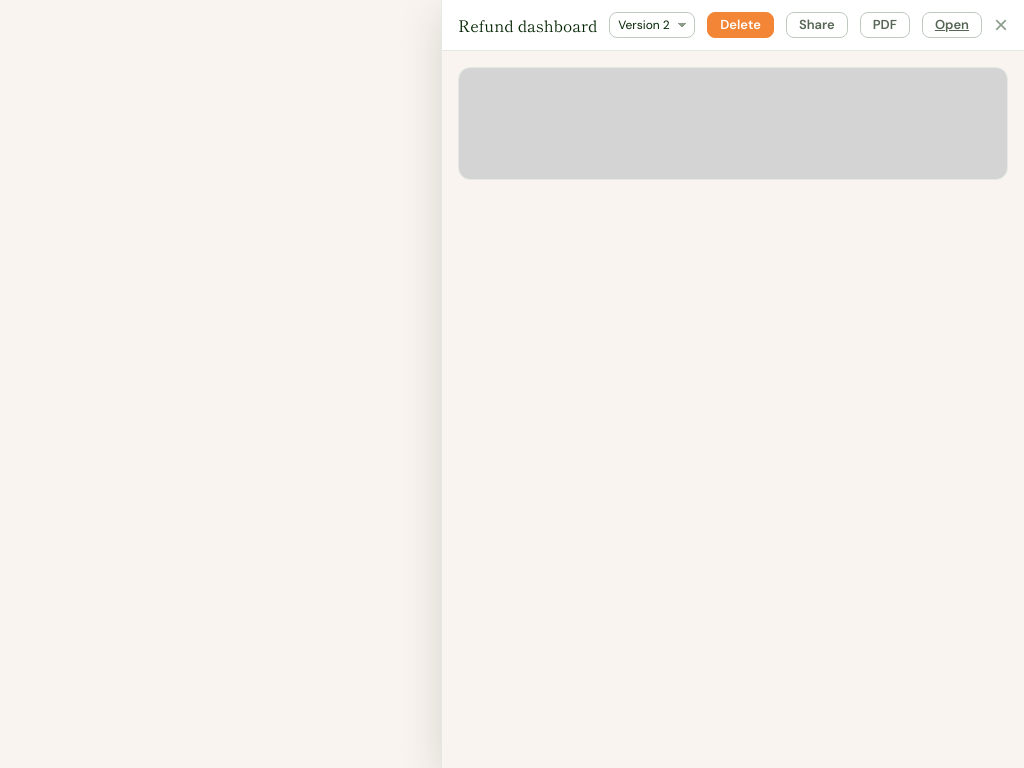
Scenario: ArtifactPanel › keeps the version when the confirmation is cancelled
Click the button with aria-label "Delete this version" at coordinates (741, 25), box [707,12,774,38]
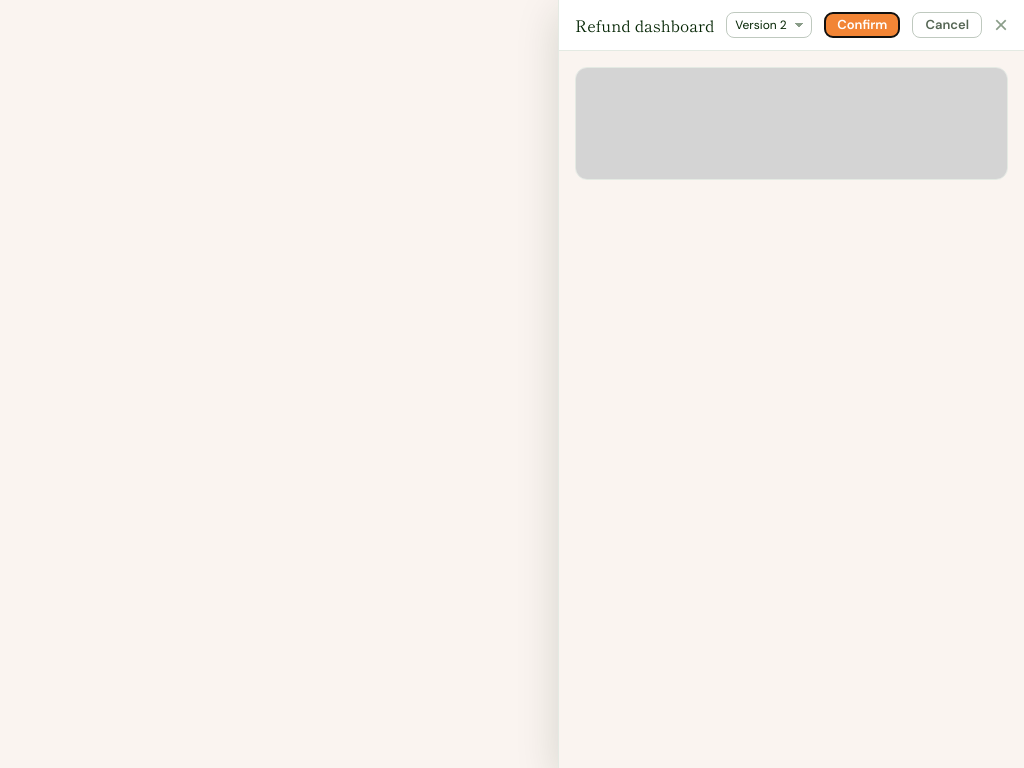
Click the button "Cancel" at coordinates (947, 25), box [912,12,982,38]
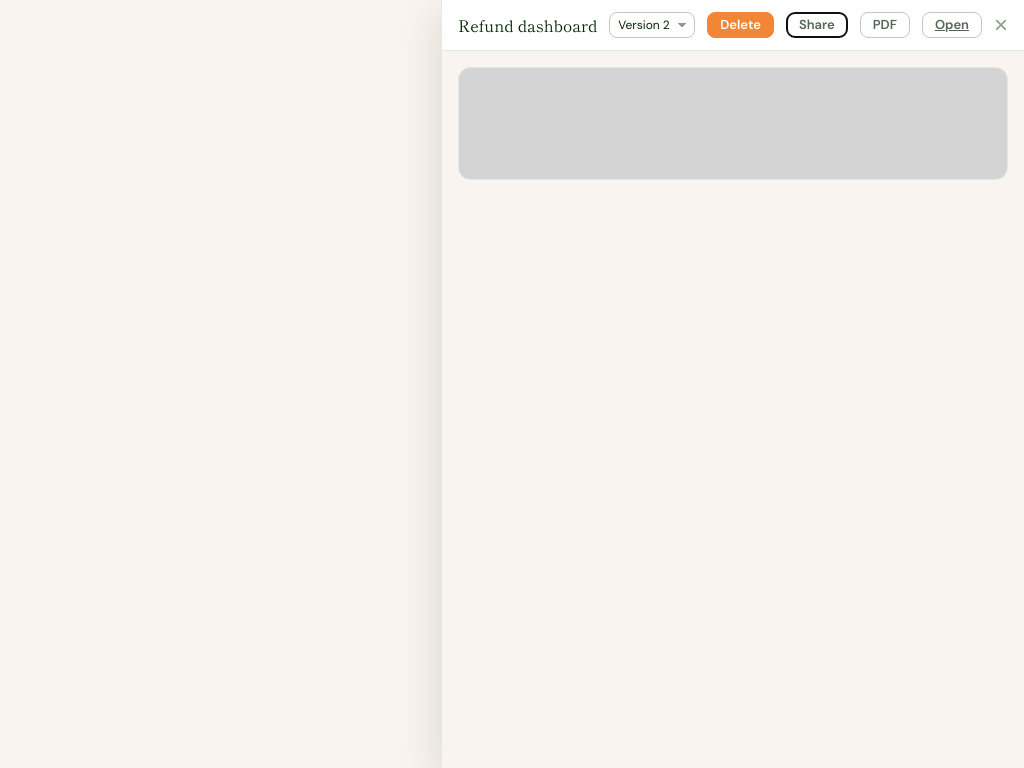
Expected: the button with aria-label "Delete this version" is shown, [707,12,774,38]
